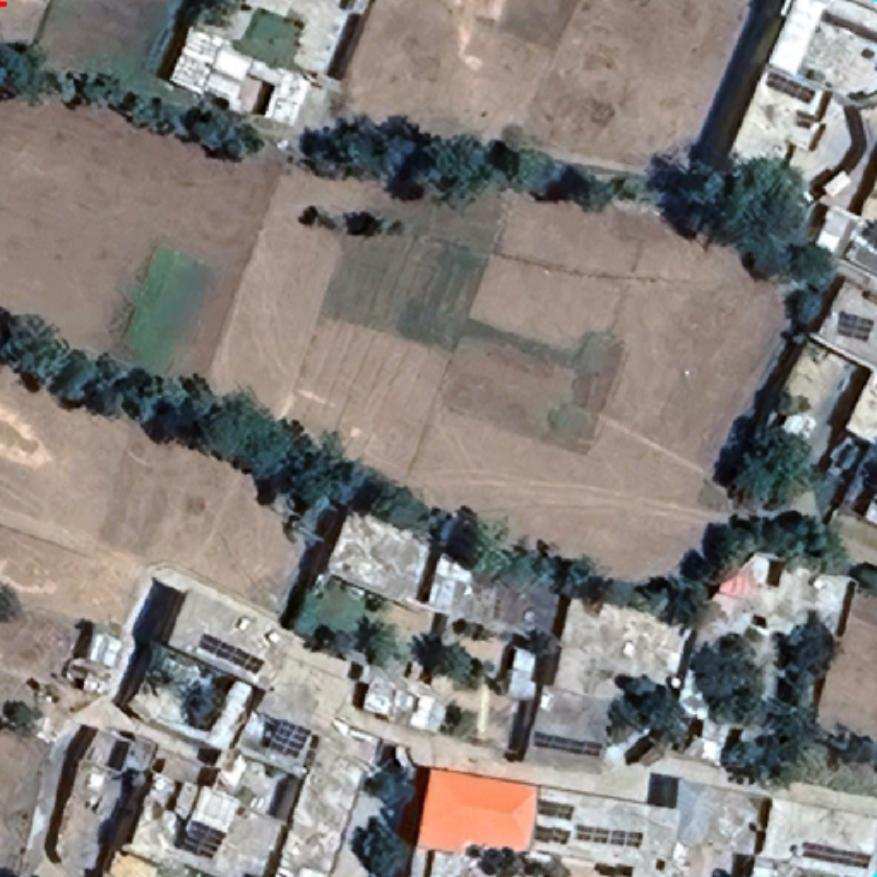Solarpanel: (194, 629, 268, 677), (796, 838, 874, 874), (261, 714, 315, 762), (178, 814, 230, 862), (570, 820, 648, 852), (530, 728, 607, 758), (834, 308, 876, 342), (532, 796, 578, 822), (530, 821, 574, 847)
